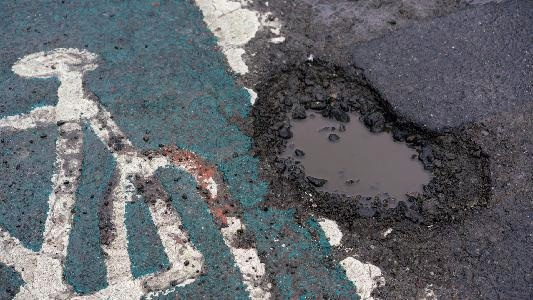pothole: (244, 57, 491, 237)
